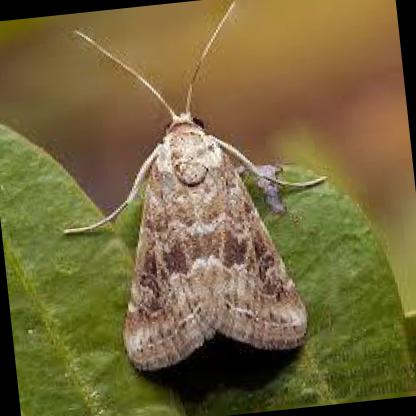Hellula undalis: (56, 0, 337, 378)
